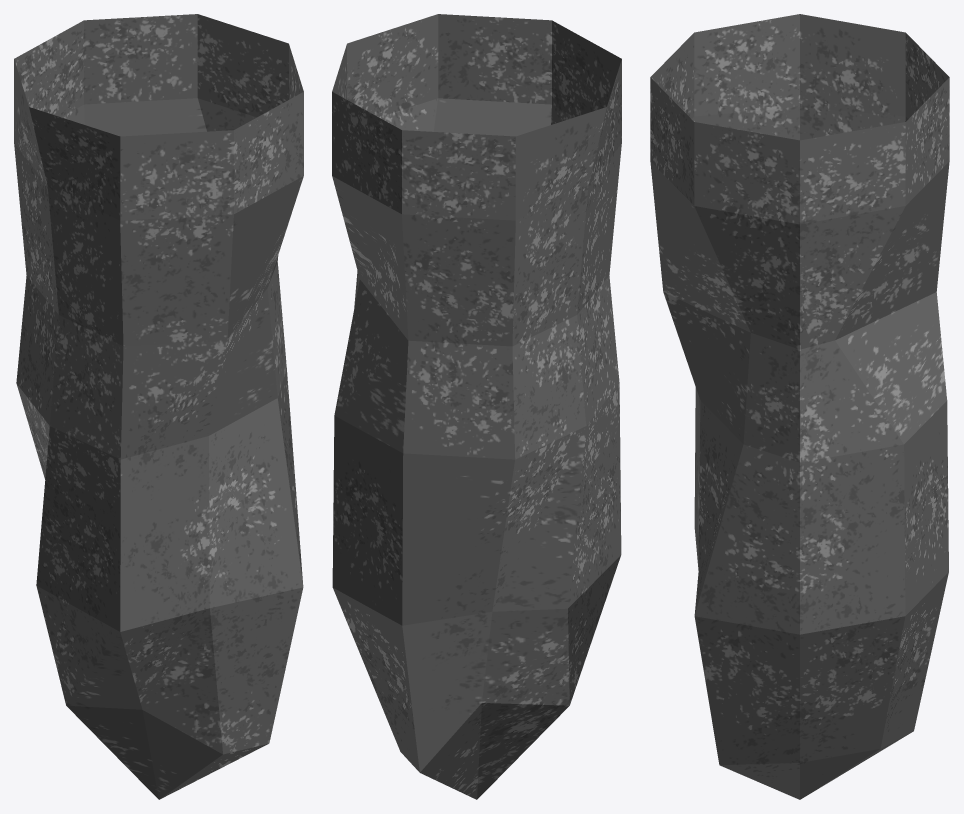
File: PillarFBX.fbx
The picture shows the model from 3 angles, left to right: view 1: azimuth 30°, elevation 25°; view 2: azimuth 150°, elevation 25°; view 3: azimuth 270°, elevation 25°; orthographic projection.
Parts seen in each view (by area): view 1: Pillar; view 2: Pillar; view 3: Pillar.
Part boxes in pixels (<box>): Pillar: <box>14,14,303,799</box>; Pillar: <box>332,14,621,799</box>; Pillar: <box>650,14,949,799</box>.
Bounding box in the file's own units: 0.866 × 2.31 × 0.866.
